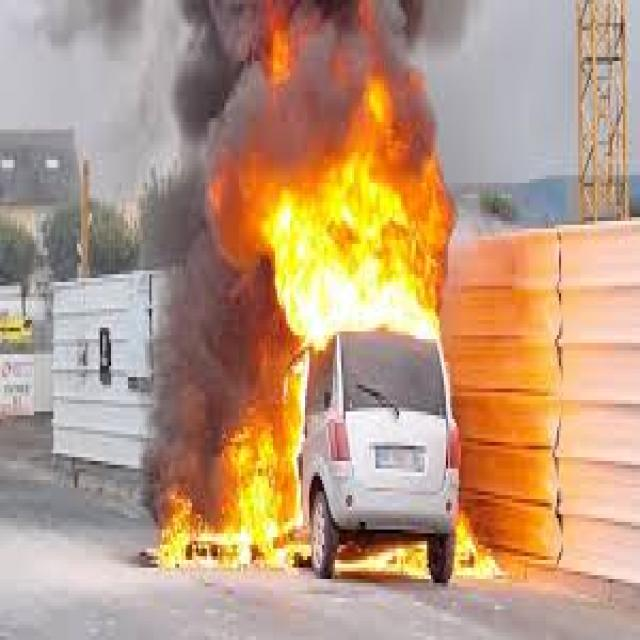fire: (265, 148, 455, 332), (142, 354, 304, 568), (378, 523, 514, 583)
smoke: (129, 11, 235, 484), (243, 2, 468, 133)
